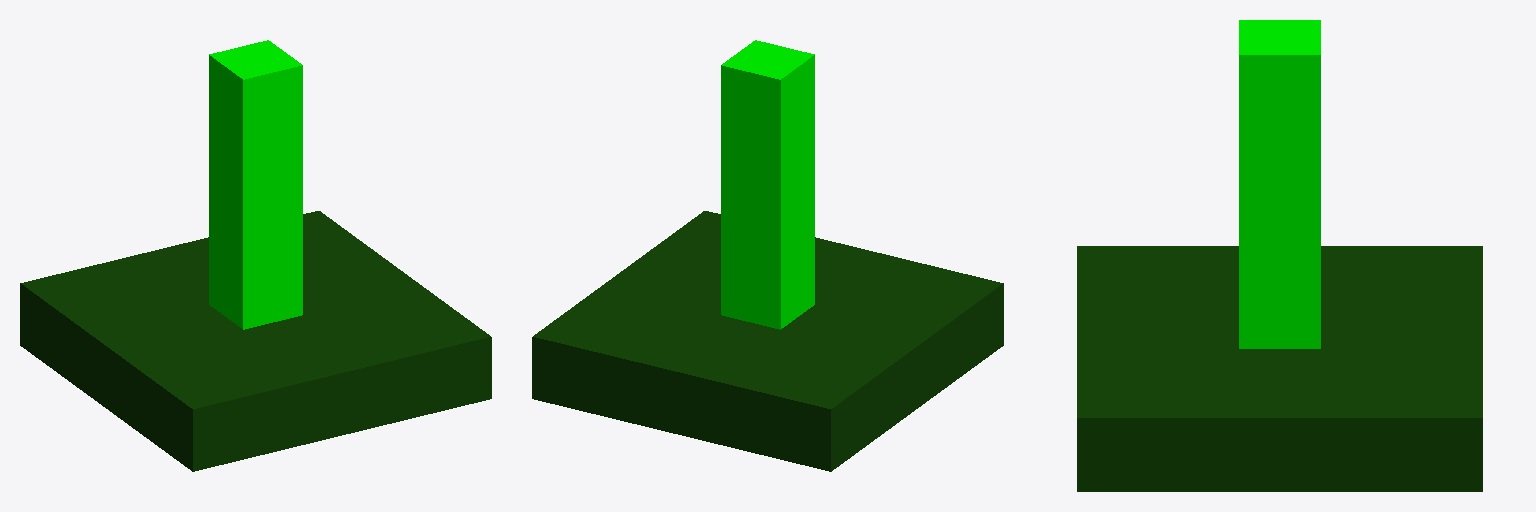
The robot description file, URDF, robot "hyphen":
<?xml version="1.0"?>
<robot name="hyphen" xmlns:xacro="http://ros.org/wiki/xacro">

 <!-- Material Colors -->
 <material name="red">
    <color rgba="1 0 0 1"/>
  </material>

  <material name="green">
    <color rgba="0 1 0 1"/>
  </material>

  <material name="avocado">
    <color rgba="0.1 0.3 0.05 1"/>
  </material>

    <link name="base_link">
        <visual>
            <geometry>
                <box size="0.5 0.5 0.1"/>
            </geometry>
            <material name="avocado" />
        </visual>
    </link>

    <link name="arm_link">
    <visual>
        <geometry>
            <box size="0.1 0.1 0.5"/>
        </geometry>
        <material name="green"/>
    </visual>
</link>

<joint name="arm_joint" type="revolute">
    <parent link="base_link"/>
    <child link="arm_link"/>
    <origin xyz="0 0 0.2" rpy="0 0 0"/>
    <axis xyz="0 1 0"/>
    <limit lower="-3.14" upper="3.14" effort="0.0" velocity="0.0"/>
</joint>

</robot>

--- Facts derived from the render (not from the file) ---
The picture shows the robot from 3 angles, left to right: view 1: azimuth 30°, elevation 25°; view 2: azimuth 150°, elevation 25°; view 3: azimuth 270°, elevation 25°; orthographic projection.
Model hyphen with 2 links and 1 joints (1 revolute), rooted at base_link, posed every joint at zero.
Links seen in each view (by area): view 1: base_link, arm_link; view 2: base_link, arm_link; view 3: base_link, arm_link.
Boxes of the visible links, box(x1,y1,x2,y2) form: base_link: box(20, 211, 491, 471); arm_link: box(209, 40, 302, 329); base_link: box(532, 211, 1003, 471); arm_link: box(721, 40, 814, 329); base_link: box(1077, 246, 1482, 491); arm_link: box(1239, 20, 1320, 348).
Size in the robot's own frame: 0.5 by 0.5 by 0.5 metres.
Geometry: primitives only (box / cylinder / sphere), no mesh files.